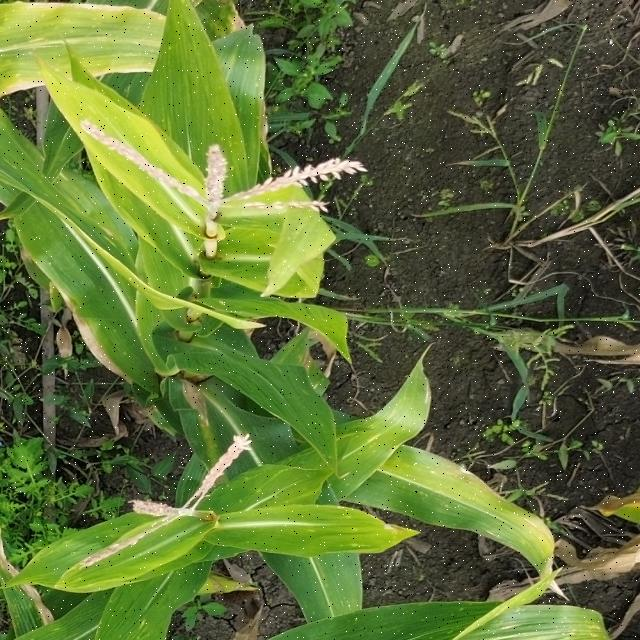northern-leaf-blight: (175, 377, 241, 433)
southern-leaf-blight: (10, 9, 151, 72), (22, 209, 112, 294), (224, 466, 316, 509), (408, 467, 469, 525), (394, 604, 490, 640), (96, 595, 168, 640), (38, 532, 112, 572), (348, 418, 404, 470), (283, 342, 332, 396), (194, 0, 250, 41)
